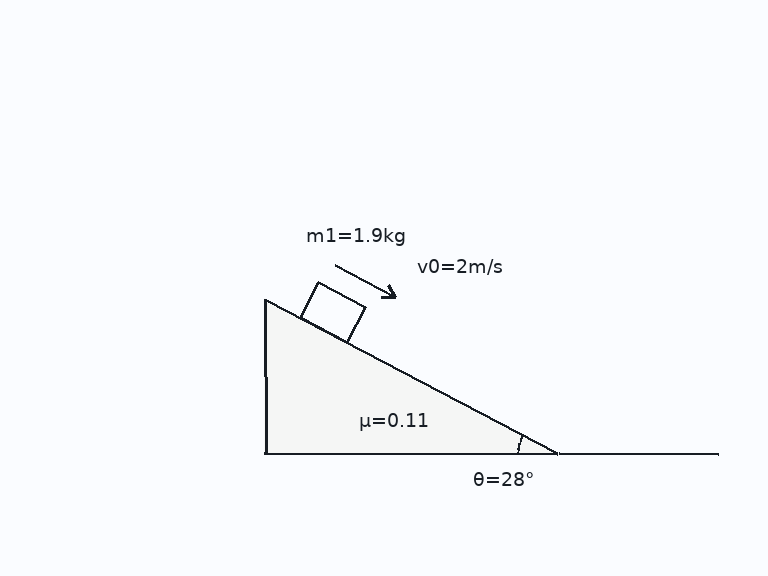block: (298, 280, 367, 344)
ramp: (263, 296, 560, 456)
